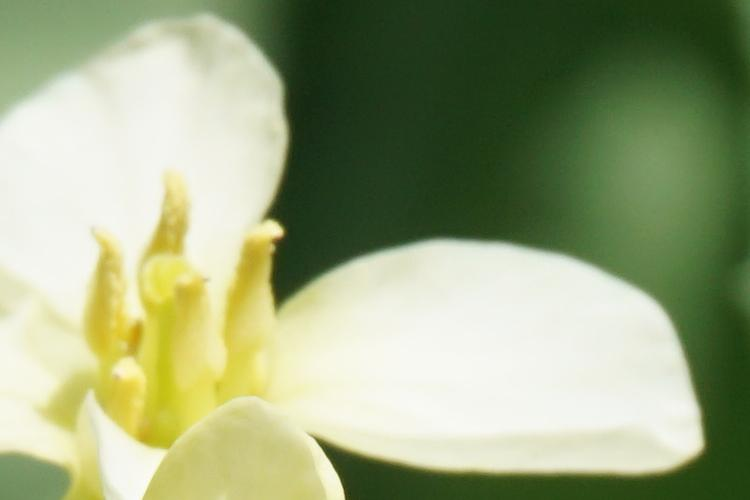white: (10, 24, 712, 483)
